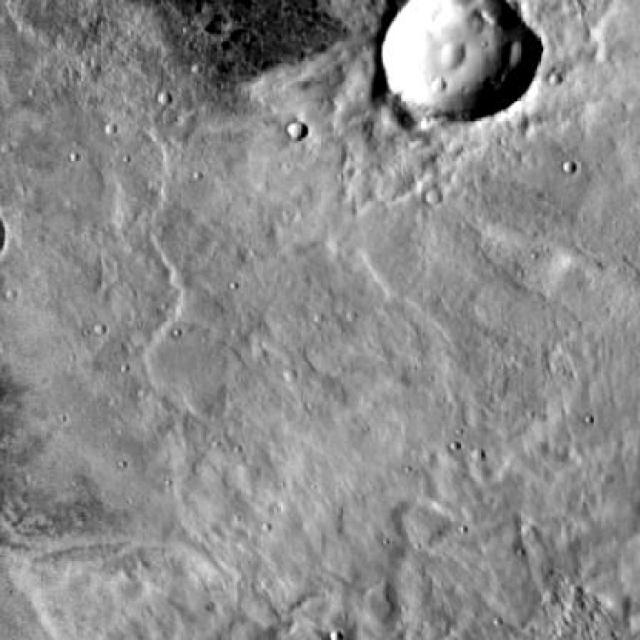crater: (379, 0, 535, 128), (289, 121, 309, 139), (412, 187, 430, 204)
